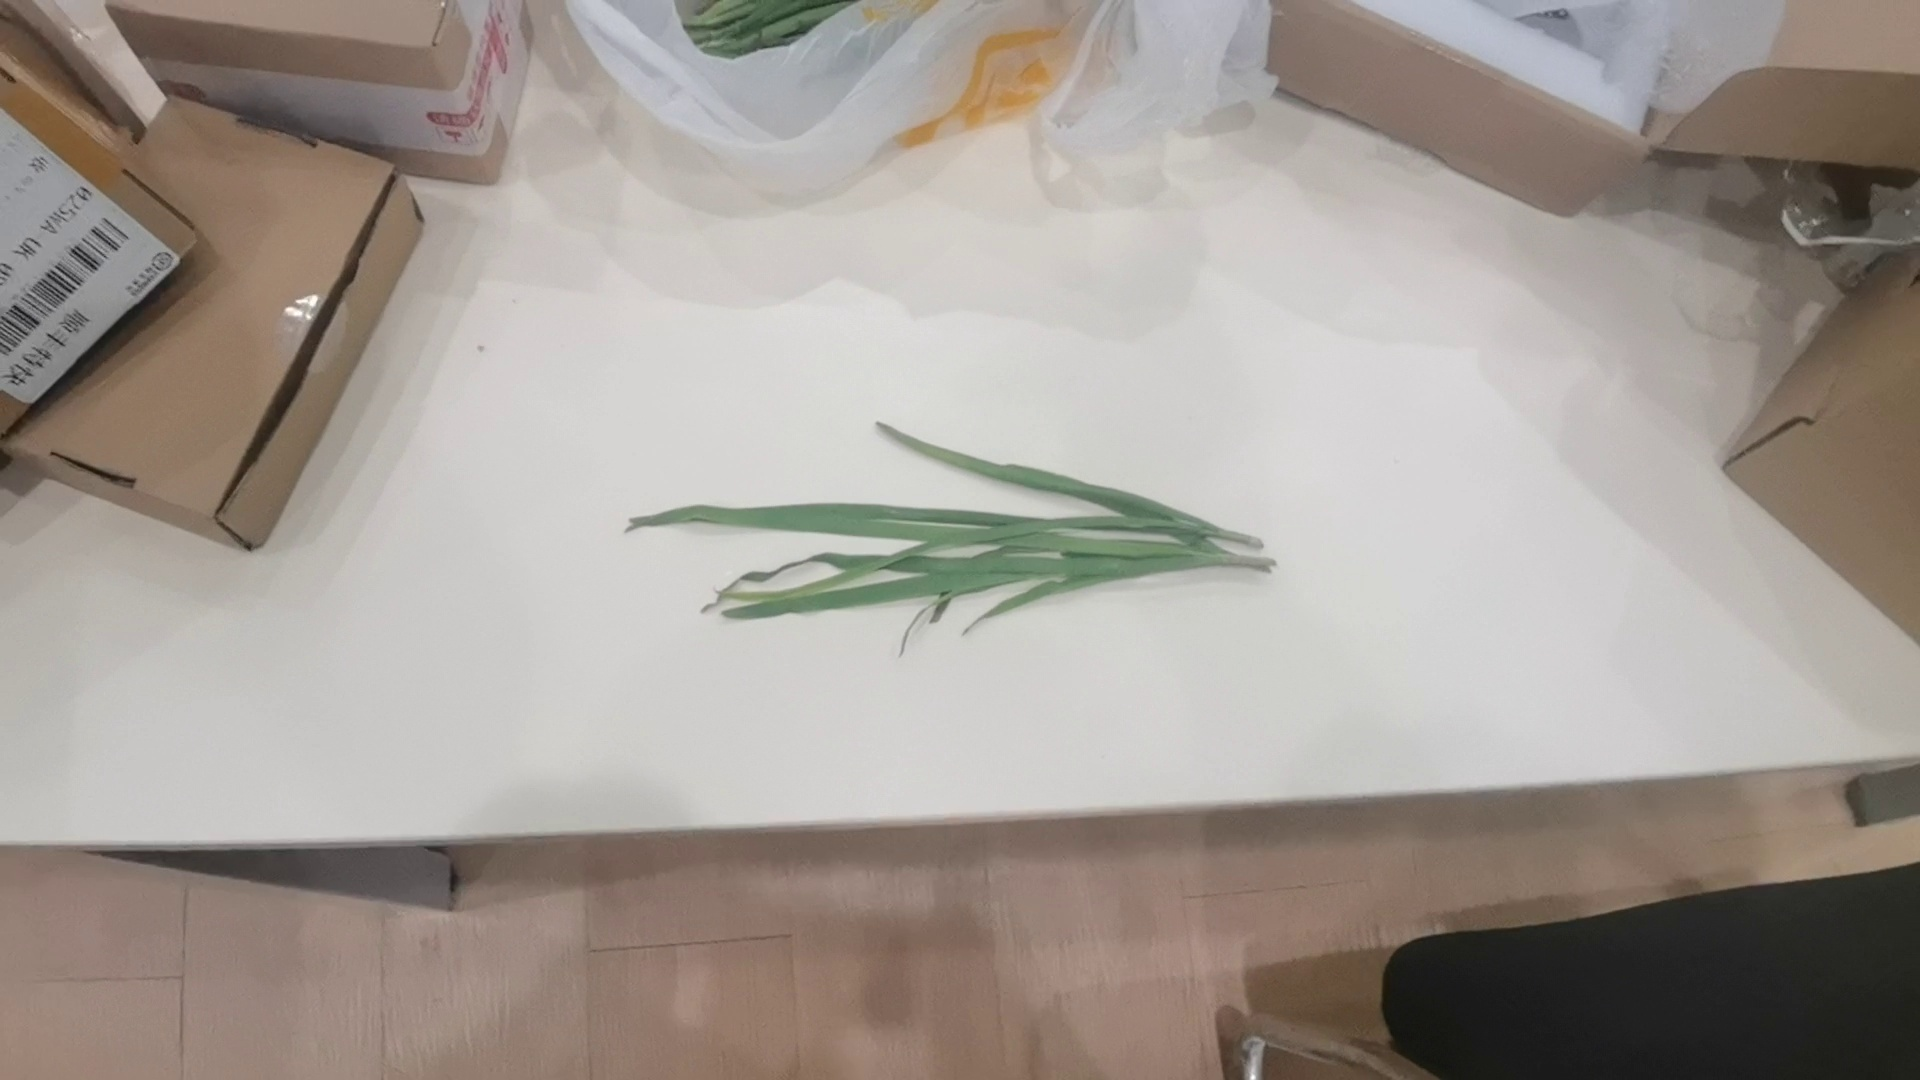chives: (622, 409, 1280, 638)
